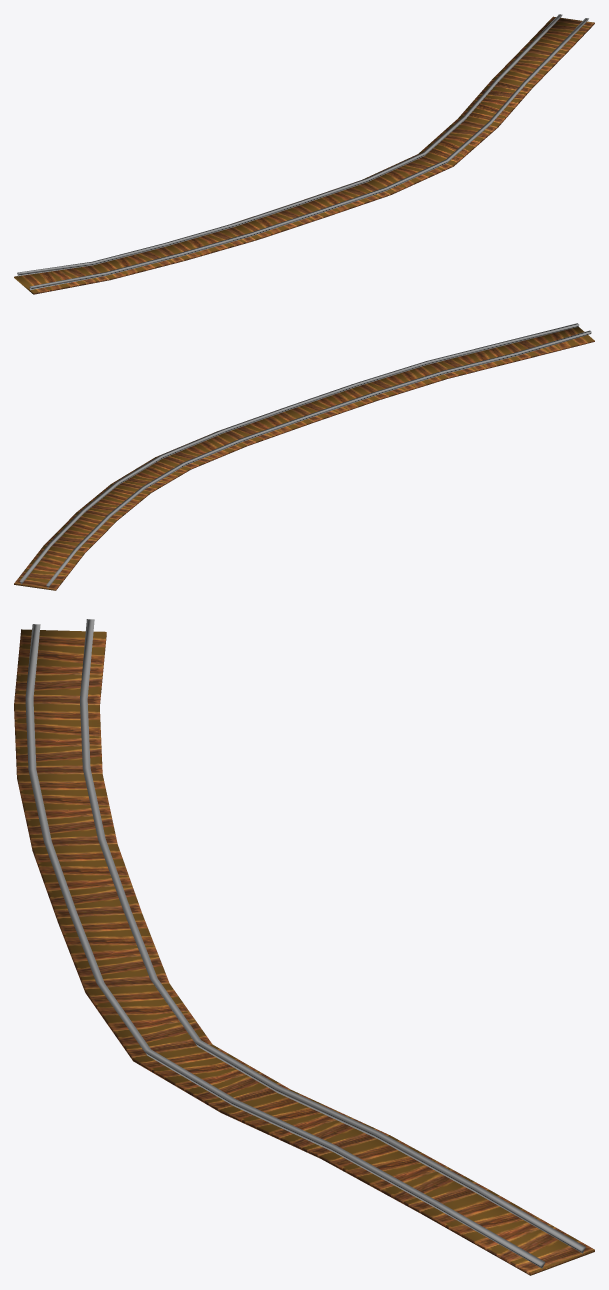
The model's file is SWORDLIGHT20_MAIN1RAILS1WEXT.fbx.
3 renders of one model, top to bottom at view 1: azimuth 30°, elevation 25°; view 2: azimuth 210°, elevation 25°; view 3: azimuth 270°, elevation 25°, orthographic. The views are drawn at different scales.
Visible parts, largest first — view 1: SWORDLIGHT20_MAIN1RAILS1WEXT; view 2: SWORDLIGHT20_MAIN1RAILS1WEXT; view 3: SWORDLIGHT20_MAIN1RAILS1WEXT.
Boxes of the visible parts, x1,y1,x2,y2 form: SWORDLIGHT20_MAIN1RAILS1WEXT: (14, 14, 594, 294); SWORDLIGHT20_MAIN1RAILS1WEXT: (14, 323, 594, 590); SWORDLIGHT20_MAIN1RAILS1WEXT: (14, 619, 594, 1275).
Bounding box in the file's own units: 292814 × 6985 × 109781.
2 materials, 2 textured.
